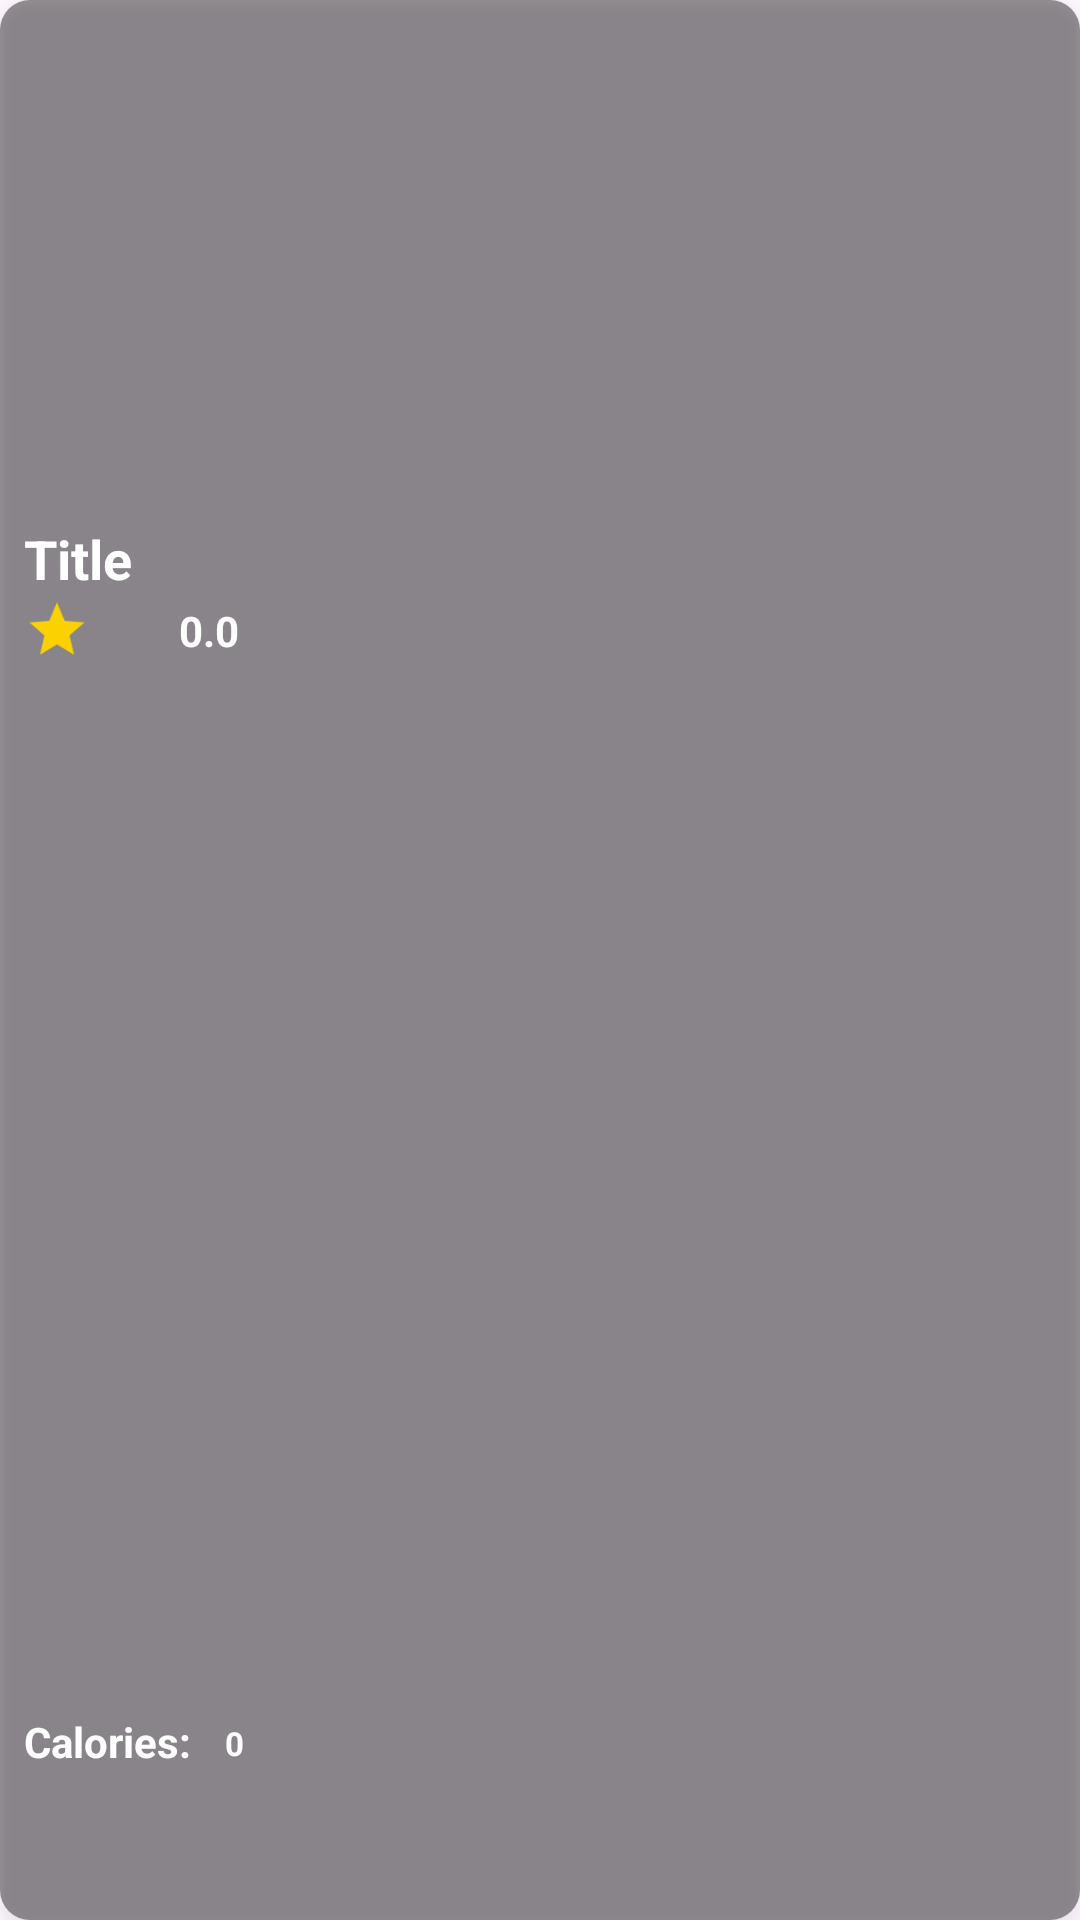

Screen size 1080*1920. Icon name, then its box in pixels as [x1, y1, x2, y2]:
star: [30, 603, 84, 655]
